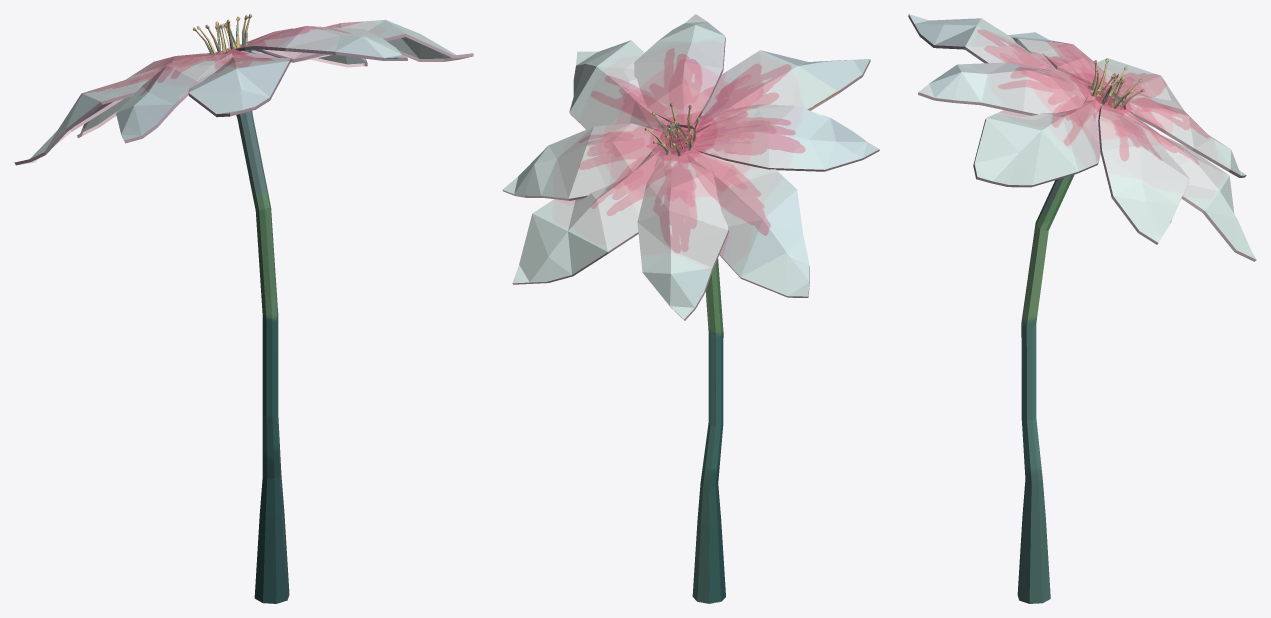
Rendered from FlowerBloom.obj.
3 renders of one model, left to right at view 1: azimuth 30°, elevation 25°; view 2: azimuth 150°, elevation 25°; view 3: azimuth 270°, elevation 25°, orthographic. The views are drawn at different scales.
Visible parts, largest first — view 1: ZBrush_defualt_group; view 2: ZBrush_defualt_group; view 3: ZBrush_defualt_group.
Part boxes in pixels (left/top/right/bottom): ZBrush_defualt_group: left=14, top=14, right=473, bottom=603; ZBrush_defualt_group: left=502, top=14, right=879, bottom=603; ZBrush_defualt_group: left=908, top=14, right=1256, bottom=603.
Size of the model in its own units: 7.13 by 11.08 by 6.36.
